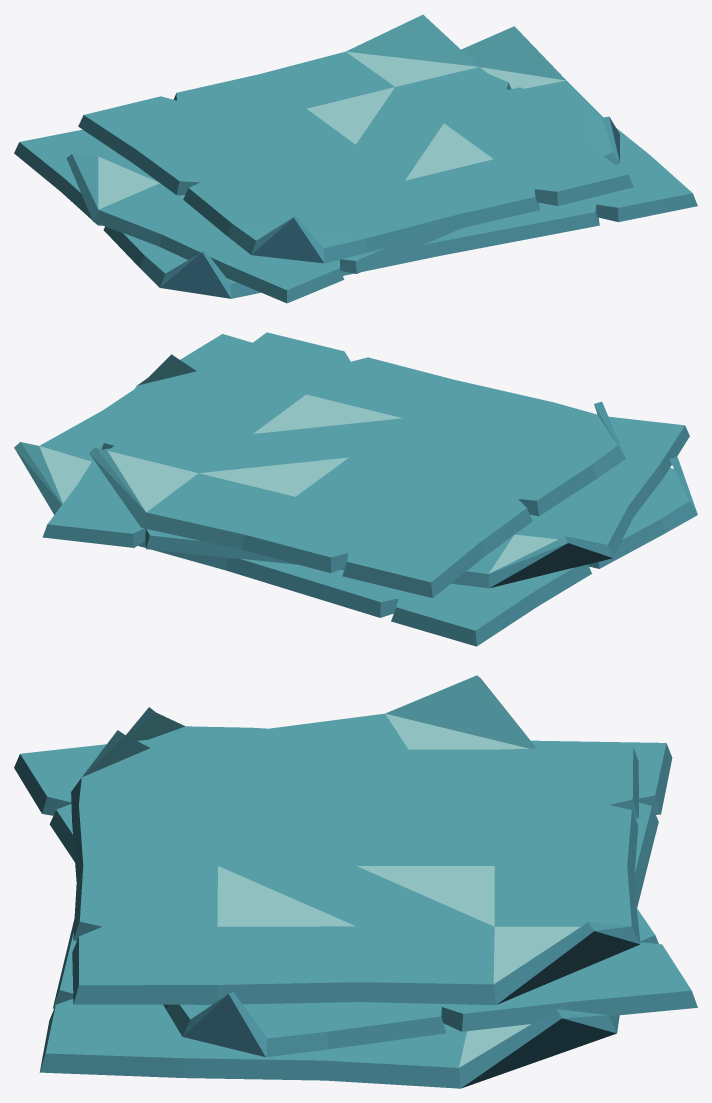
The model's file is itch_kaykit_rpg_tools_blueprint_stacked.glb.
3 views of the same model, one above another, from view 1: azimuth 30°, elevation 25°; view 2: azimuth 150°, elevation 25°; view 3: azimuth 270°, elevation 25° (orthographic). The views are drawn at different scales.
Parts seen in each view (by area): view 1: blueprint_stacked; view 2: blueprint_stacked; view 3: blueprint_stacked.
Boxes of the visible parts, x1=… form: blueprint_stacked: x1=14, y1=14, x2=697, y2=303; blueprint_stacked: x1=14, y1=332, x2=697, y2=646; blueprint_stacked: x1=14, y1=675, x2=697, y2=1088.
Bounding box in the file's own units: 1.18 × 0.1506 × 0.9736.
